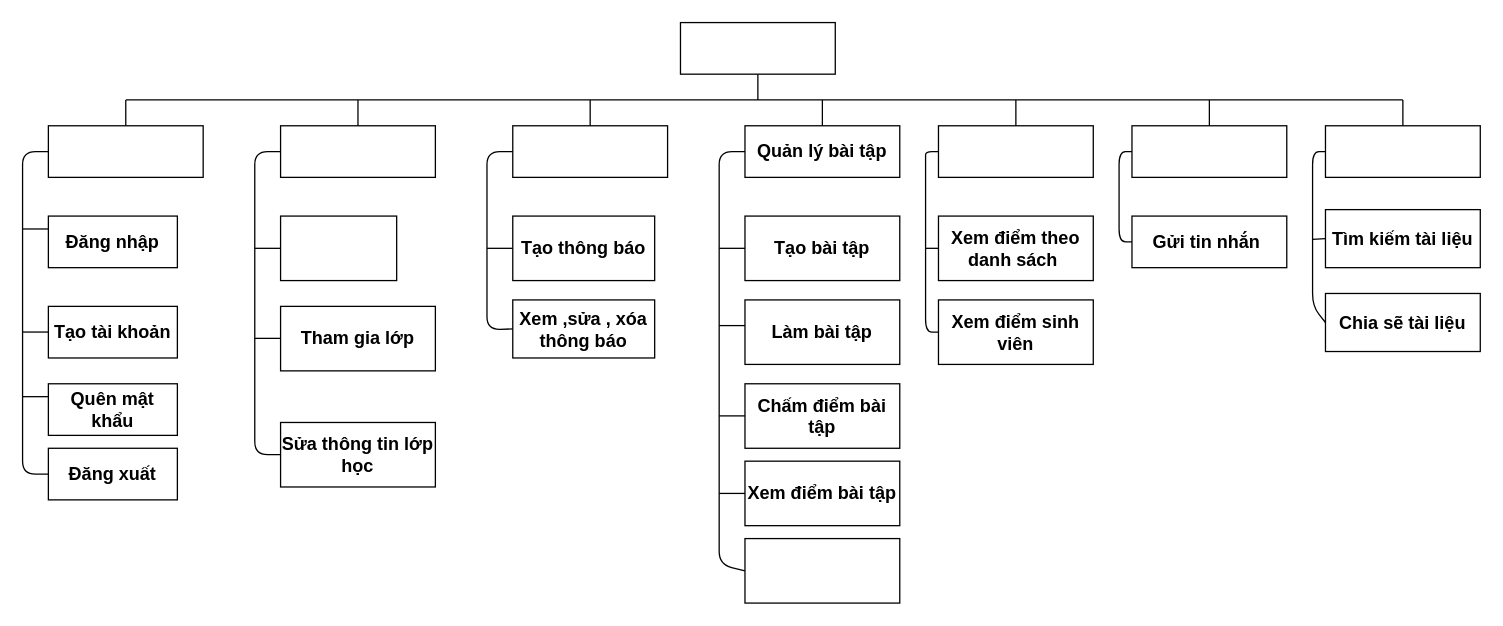
Some shapes in this 1503 by 626 pixel diagram are drawn without their labels. Each missing label, with the centre of its shape:
Kiểm tra đạo văn: the point at 822,570
LMS Learning: the point at 757,47
Nhắn tin: the point at 1209,150
Quản lý lớp học: the point at 357,150
Quản lý thông báo: the point at 589,150
Quản lý tài khoản: the point at 125,150
Quản lý tài liệu Tài liệu: the point at 1402,150
Thống kê điểm: the point at 1015,150
Tạo lớp: the point at 338,248
